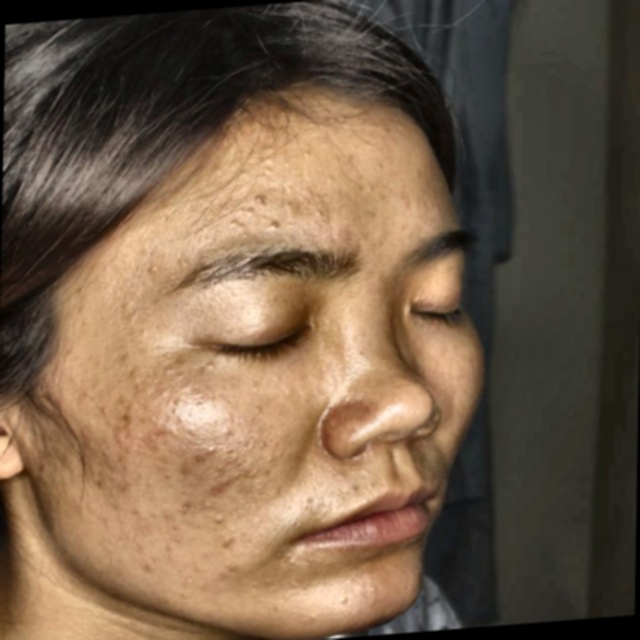comedone: (199, 477, 240, 503), (261, 210, 282, 236)
